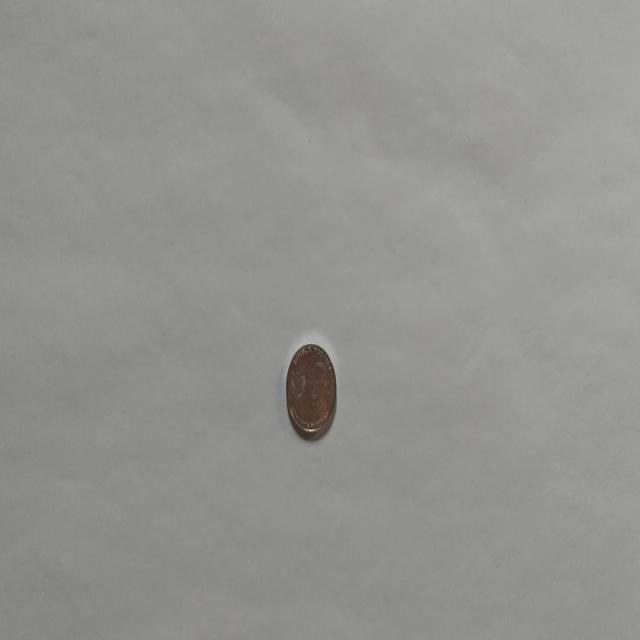lima ratus rupiah: (284, 340, 338, 440)
